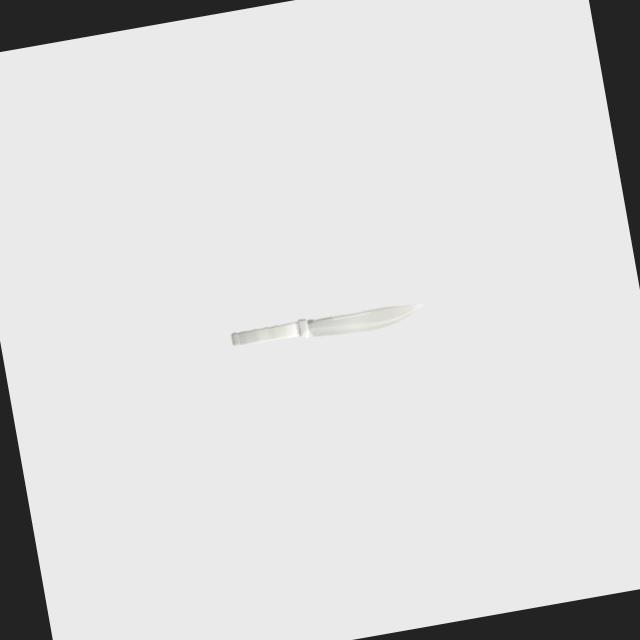knife: (229, 317, 309, 348)
